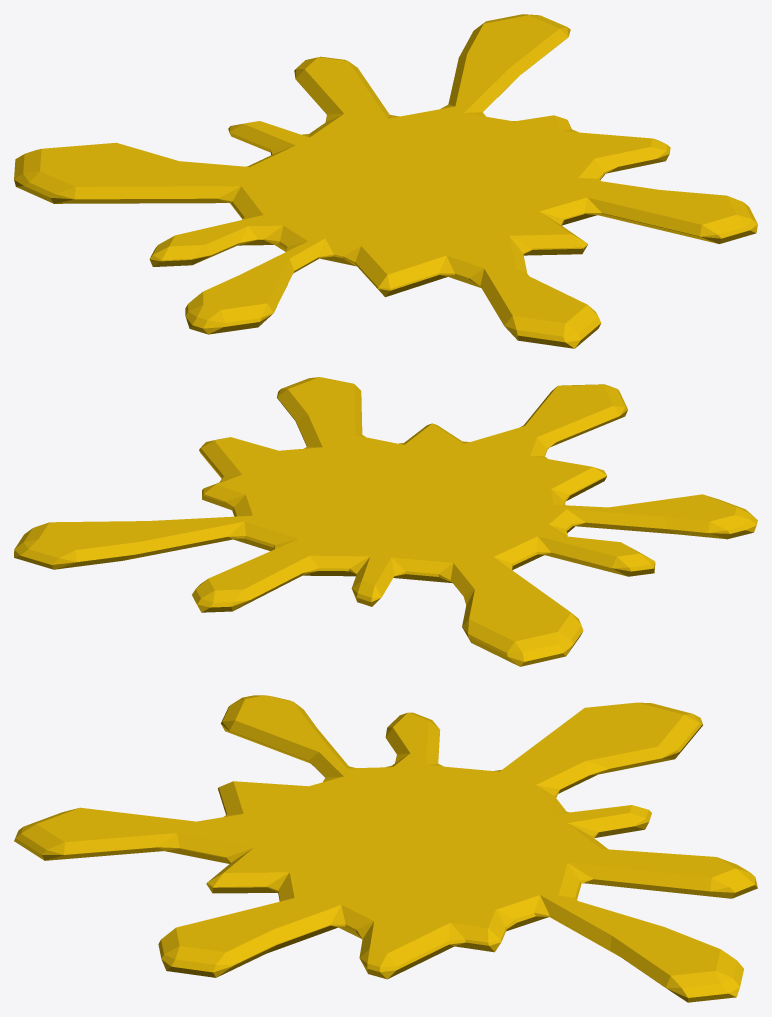
Rendered from gorchica.fbx.
3 views of the same model, one above another, from view 1: azimuth 30°, elevation 25°; view 2: azimuth 150°, elevation 25°; view 3: azimuth 270°, elevation 25° (orthographic). The views are drawn at different scales.
Visible parts, largest first — view 1: Circle.030; view 2: Circle.030; view 3: Circle.030.
Boxes of the visible parts, bbox=[...] form: Circle.030: bbox=[14, 14, 757, 348]; Circle.030: bbox=[14, 377, 757, 666]; Circle.030: bbox=[14, 695, 757, 1002].
Size of the model in its own units: 22.85 by 0.6404 by 24.
